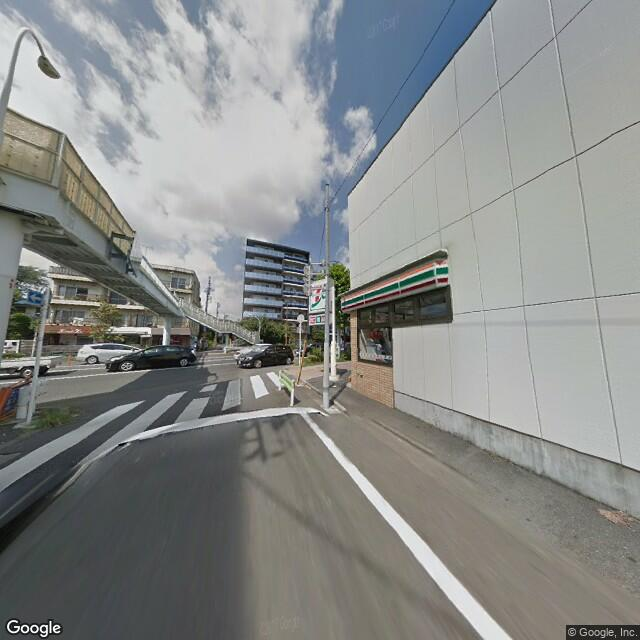7-eleven: (339, 246, 451, 317), (307, 276, 330, 312)
